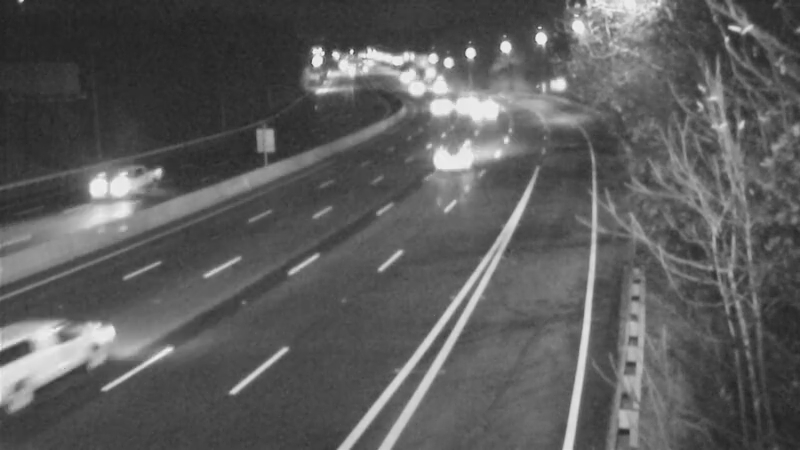vehicle: (1, 305, 105, 415), (410, 118, 490, 198), (87, 147, 167, 227), (410, 65, 460, 115), (387, 64, 437, 114), (442, 78, 492, 128), (415, 83, 465, 133), (460, 85, 510, 135)
